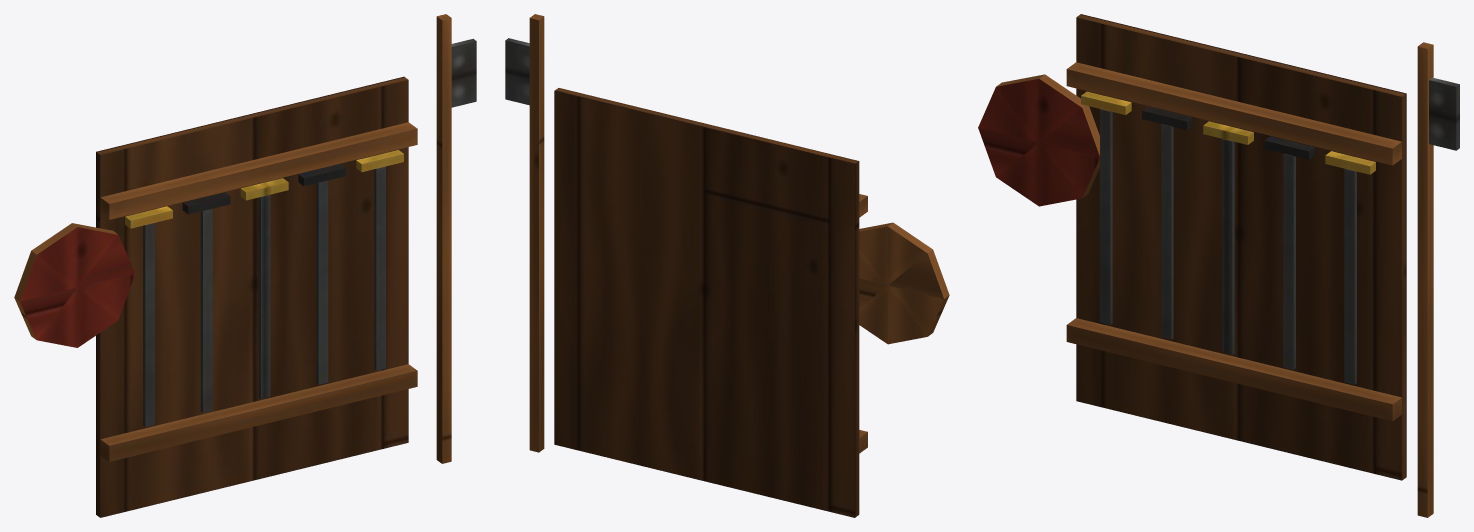
Rendered from wall_rack.glb.
3 renders of one model, left to right at view 1: azimuth 30°, elevation 25°; view 2: azimuth 150°, elevation 25°; view 3: azimuth 330°, elevation 25°, orthographic. The views are drawn at different scales.
Parts seen in each view (by area): view 1: props_0_0; view 2: props_0_0; view 3: props_0_0.
Boxes of the visible parts, x1,y1,x2,y2 form: props_0_0: (14, 14, 476, 517); props_0_0: (505, 14, 949, 517); props_0_0: (978, 14, 1459, 517).
Bounding box in the file's own units: 2.36 × 2.2 × 0.155.
Materials: 2 (2 with a texture image).
